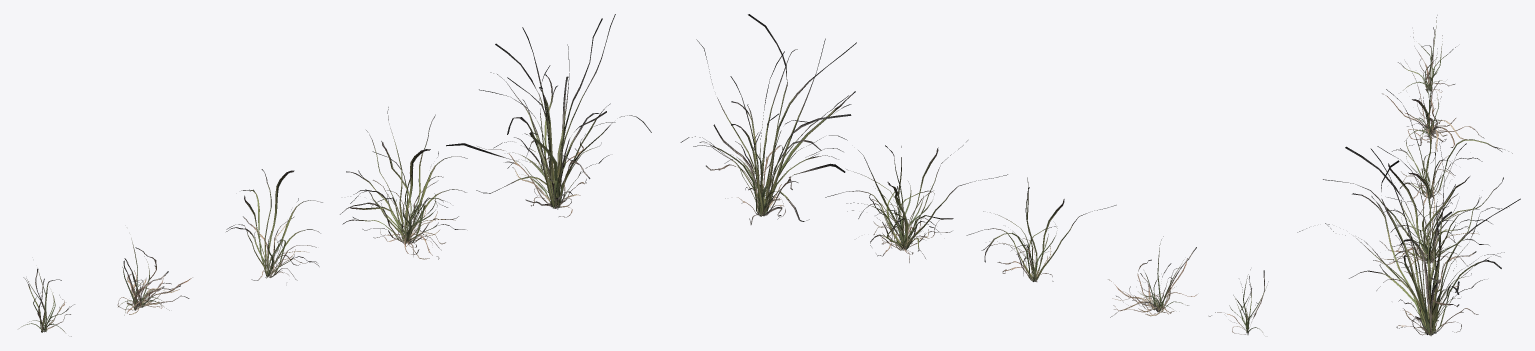
File: grass_medium_02.glb
3 renders of one model, left to right at view 1: azimuth 30°, elevation 25°; view 2: azimuth 150°, elevation 25°; view 3: azimuth 270°, elevation 25°, orthographic. The views are drawn at different scales.
Visible parts, largest first — view 1: grass_medium_02_e, grass_medium_02_d, grass_medium_02_c, grass_medium_02_b, grass_medium_02_a; view 2: grass_medium_02_e, grass_medium_02_d, grass_medium_02_c, grass_medium_02_b, grass_medium_02_a; view 3: grass_medium_02_e, grass_medium_02_d, grass_medium_02_c, grass_medium_02_b, grass_medium_02_a.
Boxes of the visible parts, left/top/right/bottom form: grass_medium_02_e: left=446, top=14, right=651, bottom=217; grass_medium_02_d: left=340, top=107, right=467, bottom=259; grass_medium_02_c: left=226, top=169, right=322, bottom=280; grass_medium_02_b: left=117, top=238, right=192, bottom=315; grass_medium_02_a: left=19, top=268, right=74, bottom=336; grass_medium_02_e: left=680, top=14, right=856, bottom=224; grass_medium_02_d: left=825, top=140, right=1007, bottom=262; grass_medium_02_c: left=966, top=177, right=1116, bottom=281; grass_medium_02_b: left=1108, top=236, right=1197, bottom=317; grass_medium_02_a: left=1209, top=269, right=1268, bottom=334; grass_medium_02_e: left=1297, top=142, right=1520, bottom=335; grass_medium_02_d: left=1323, top=143, right=1509, bottom=274; grass_medium_02_c: left=1386, top=89, right=1512, bottom=215; grass_medium_02_b: left=1382, top=48, right=1484, bottom=151; grass_medium_02_a: left=1398, top=15, right=1455, bottom=92.
Bounding box in the file's own units: 1.31 × 0.4053 × 0.4332.
Materials: 1 (1 with a texture image).
